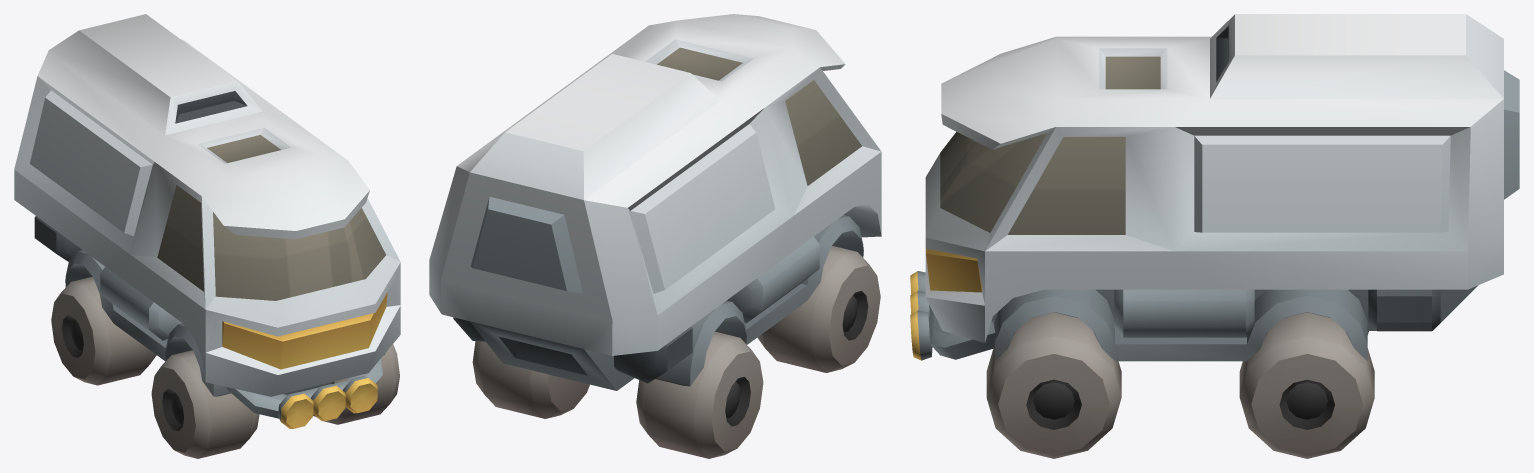
Rendered from spacetruck_large.glb.
The picture shows the model from 3 angles, left to right: view 1: azimuth 30°, elevation 25°; view 2: azimuth 150°, elevation 25°; view 3: azimuth 270°, elevation 25°; orthographic projection. The views are drawn at different scales.
Visible parts, largest first — view 1: spacetruck_large, spacetruck_large_wheel_front_right, spacetruck_large_wheel_rear_right, spacetruck_large_wheel_front_left; view 2: spacetruck_large, spacetruck_large_wheel_rear_right, spacetruck_large_wheel_front_right, spacetruck_large_wheel_rear_left; view 3: spacetruck_large, spacetruck_large_wheel_front_left, spacetruck_large_wheel_rear_left.
Boxes of the visible parts, bbox=[...] form: spacetruck_large: bbox=[14, 14, 400, 428]; spacetruck_large_wheel_front_right: bbox=[151, 350, 259, 458]; spacetruck_large_wheel_rear_right: bbox=[51, 276, 156, 385]; spacetruck_large_wheel_front_left: bbox=[313, 344, 399, 424]; spacetruck_large: bbox=[429, 14, 881, 390]; spacetruck_large_wheel_rear_right: bbox=[636, 331, 763, 458]; spacetruck_large_wheel_front_right: bbox=[757, 245, 880, 372]; spacetruck_large_wheel_rear_left: bbox=[472, 341, 589, 418]; spacetruck_large: bbox=[910, 14, 1519, 361]; spacetruck_large_wheel_front_left: bbox=[986, 312, 1121, 458]; spacetruck_large_wheel_rear_left: bbox=[1239, 312, 1374, 458].
Size of the model in its own units: 1.51 by 2.06 by 3.08.
Materials: 1 (1 with a texture image).
